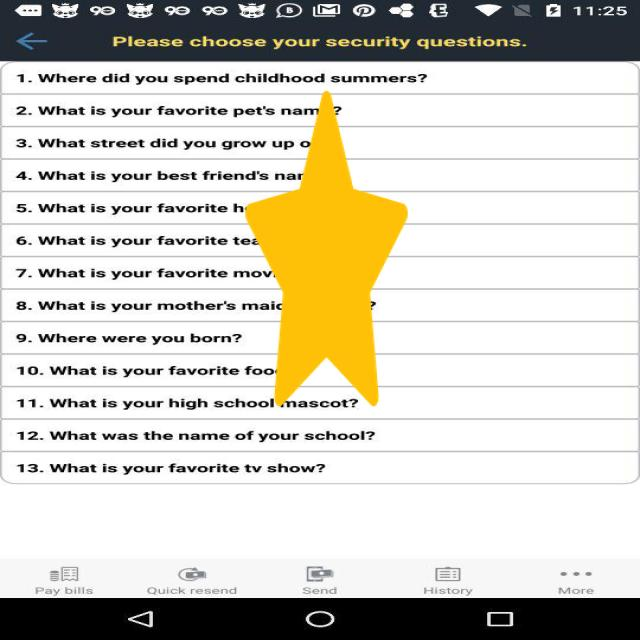forced continuity: (245, 90, 408, 407)
